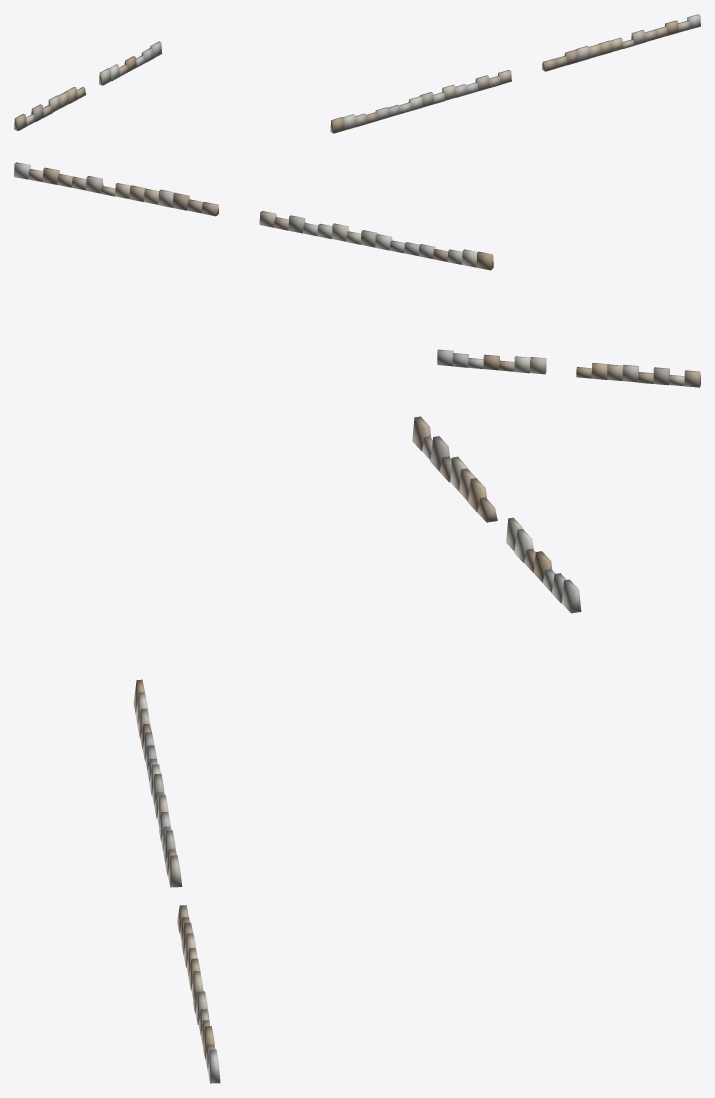
Rendered from farm_11_4_collision.glb.
3 views of the same model, one above another, from view 1: azimuth 30°, elevation 25°; view 2: azimuth 150°, elevation 25°; view 3: azimuth 270°, elevation 25° (orthographic). The views are drawn at different scales.
Parts seen in each view (by area): view 1: geometry_0; view 2: geometry_0; view 3: geometry_0.
Boxes of the visible parts, x1,y1,x2,y2 form: geometry_0: (14, 14, 700, 133); geometry_0: (14, 162, 700, 387); geometry_0: (133, 416, 581, 1083).
Bounding box in the file's own units: 83.74 × 3.47 × 25.62.
